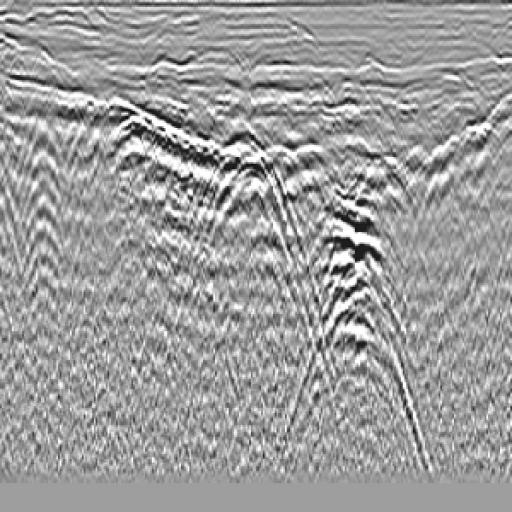metalic: (184, 129, 328, 287)
